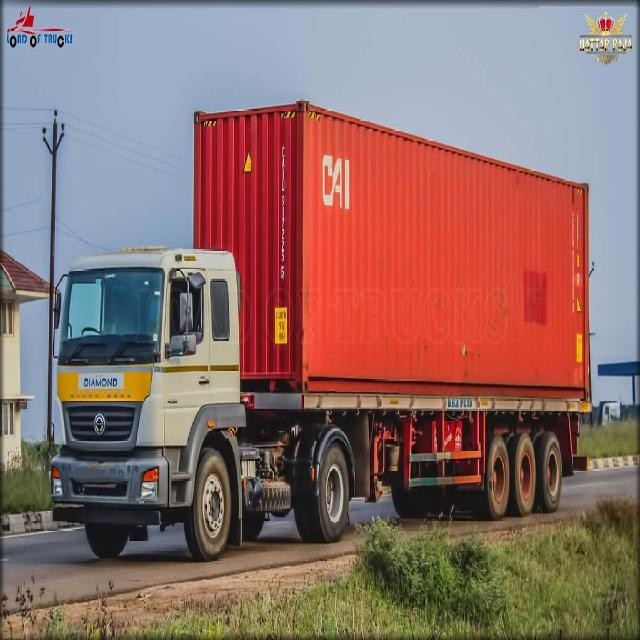truck: (53, 111, 594, 564)
